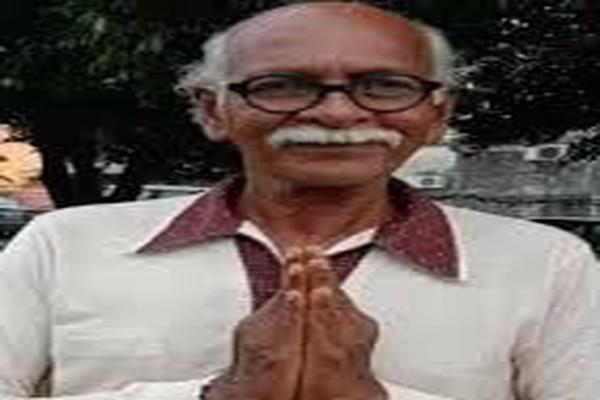Indian: (231, 14, 425, 182)
